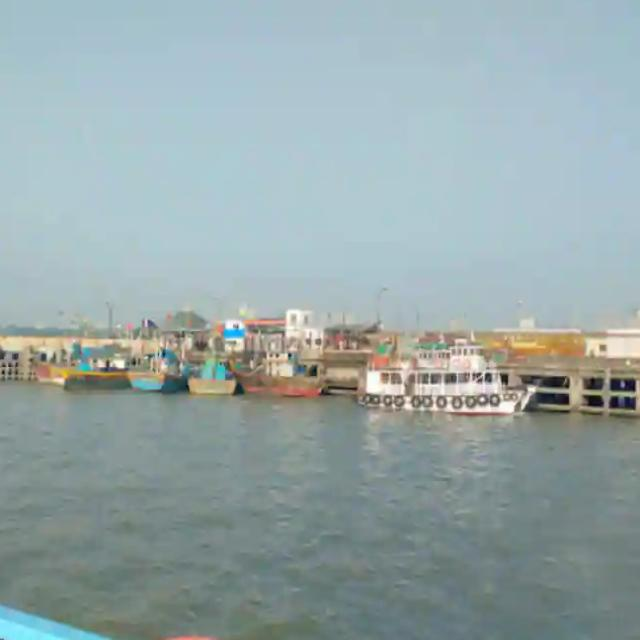passenger ship: (350, 328, 542, 417)
